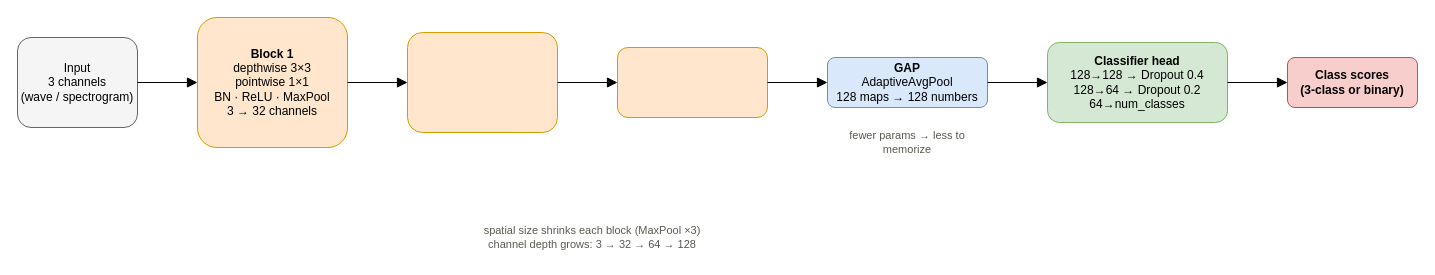
Some shapes in this 1435 by 275 pixel diagram are drawn without their labels. The box of each missing label's shape, as (x1, y1, x2, y2) in pixels:
Block 2 depthwise 3×3 pointwise 1×1 BN · ReLU · MaxPool 32 → 64 channels: (406, 32, 558, 132)
Block 3 depthwise 3×3 pointwise 1×1 BN · ReLU · MaxPool 64 → 128 channels: (616, 46, 768, 118)
